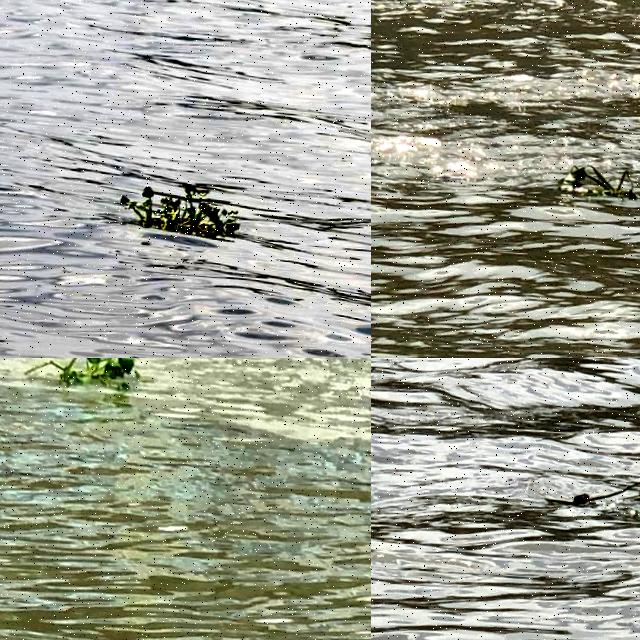water-hyacinth: (127, 171, 244, 241), (552, 444, 640, 527), (547, 157, 640, 209), (33, 359, 156, 394)
